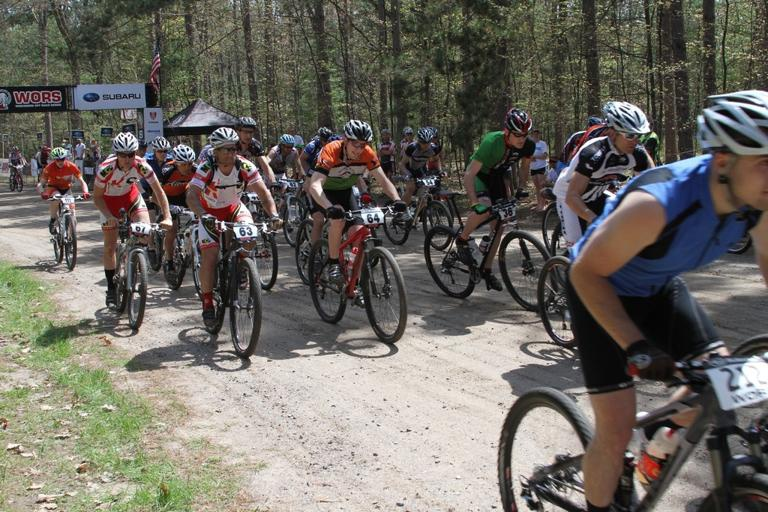non-vehicle: (496, 331, 767, 510), (422, 187, 558, 314), (305, 201, 410, 345), (191, 215, 286, 358), (96, 208, 154, 328), (43, 191, 90, 267), (7, 164, 26, 193)
